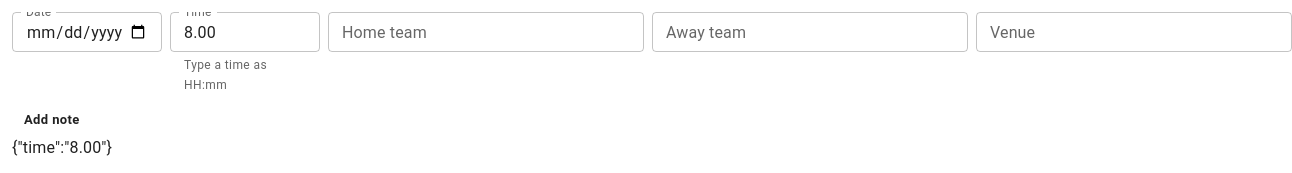
RowEditFields (spec 125) › keeps a file time that is not HH:mm as text until it is cleared, then offers the stepper
Replace the text in the field named "Time, row 7" with "8.0" at x=245, y=32, box [170,12,320,52]
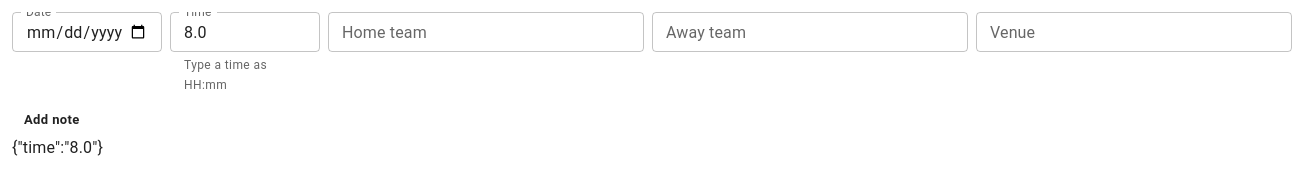
Clear the field named "Time, row 7" at x=245, y=32, box [170,12,320,52]
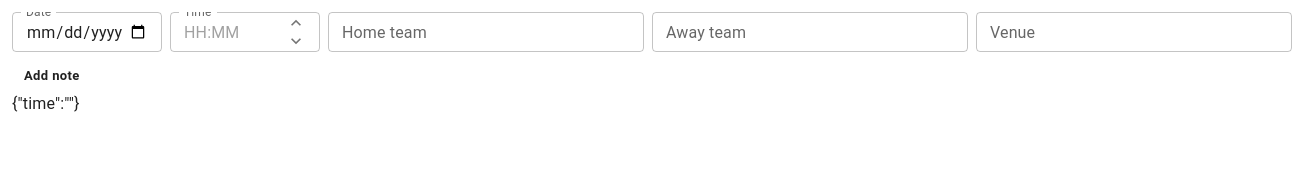
Now the text "Type a time as HH:mm" is gone
